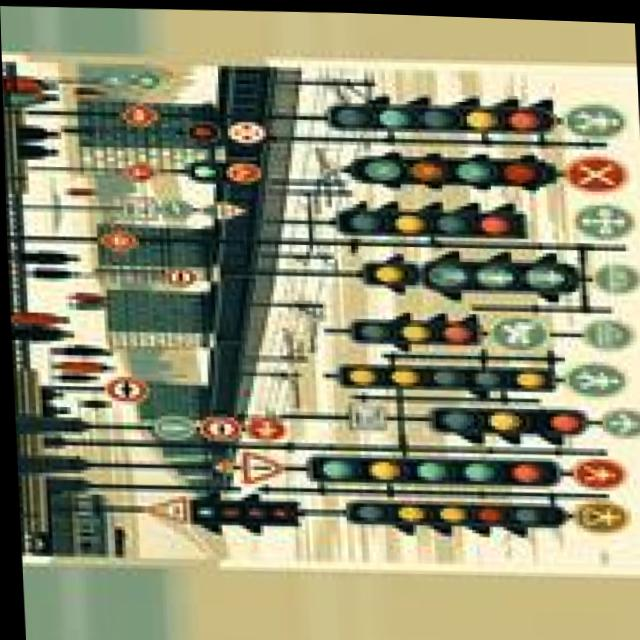green_light: (334, 340, 561, 409)
